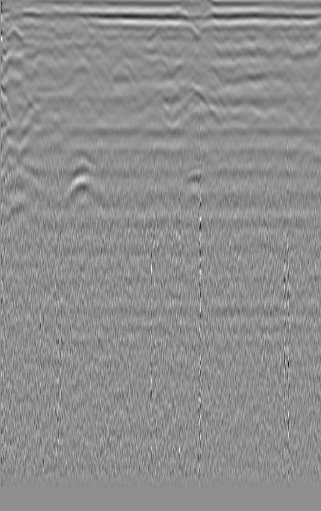상수: (279, 46, 311, 82)
오수: (1, 26, 29, 55)
우수: (137, 86, 174, 117)
